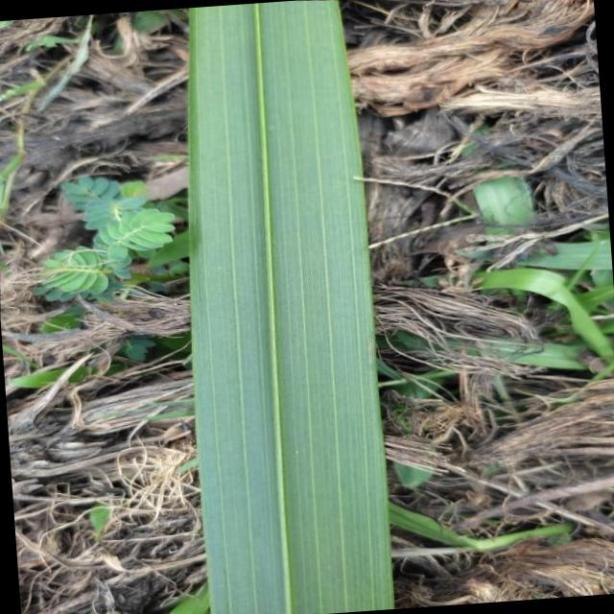Healthy: (184, 5, 395, 614)
